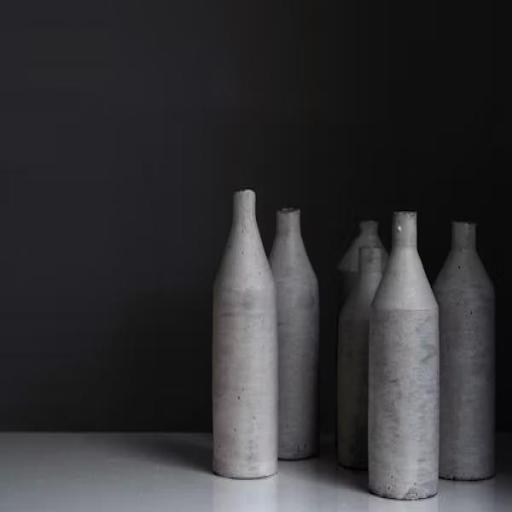bottle: (206, 178, 282, 494), (364, 204, 444, 502)
